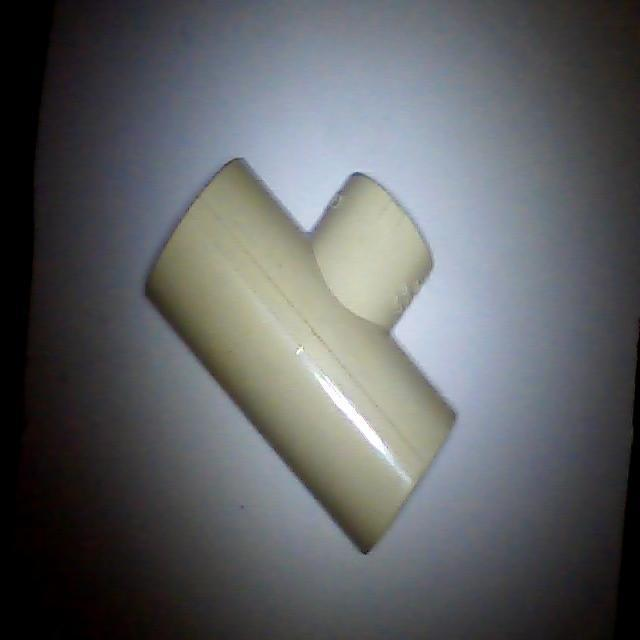T Joint: (144, 158, 458, 557)
